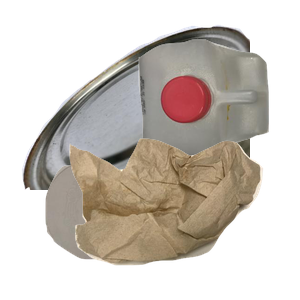glass: (43, 159, 187, 300)
metal: (19, 22, 259, 202)
plastic: (136, 37, 300, 188)
trash: (67, 136, 300, 300)
